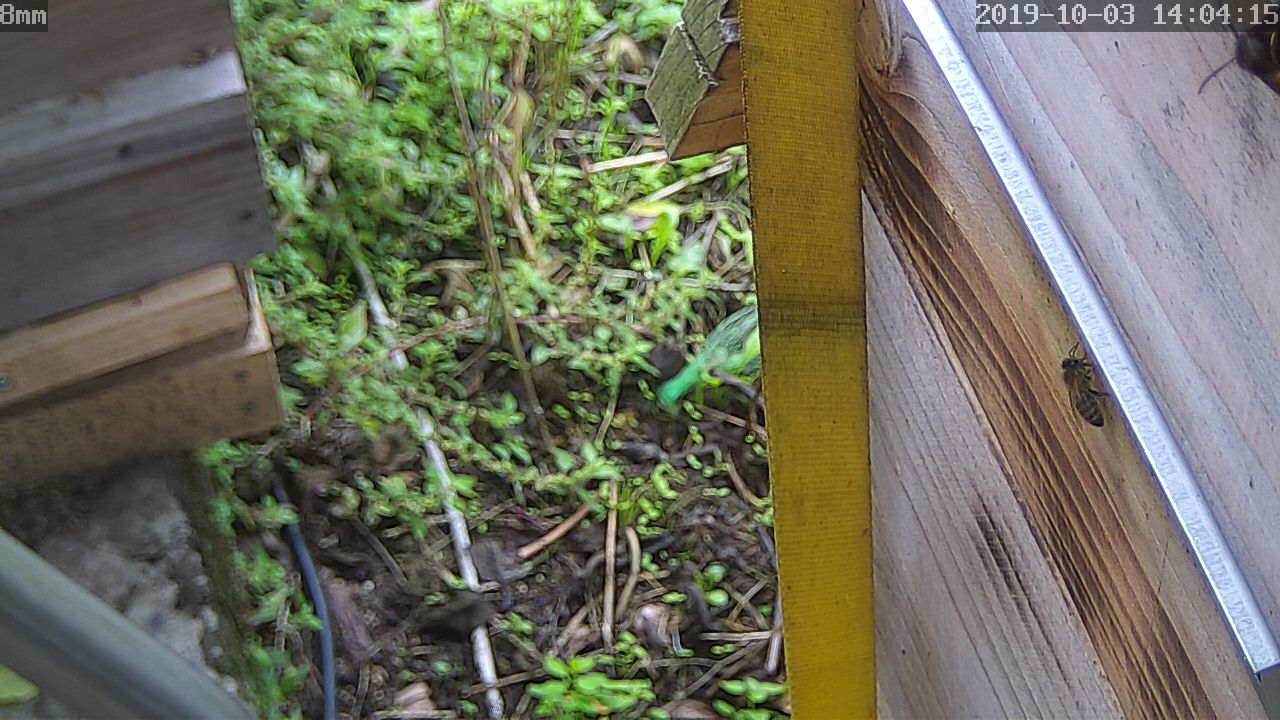bee: (1049, 348, 1122, 425)
